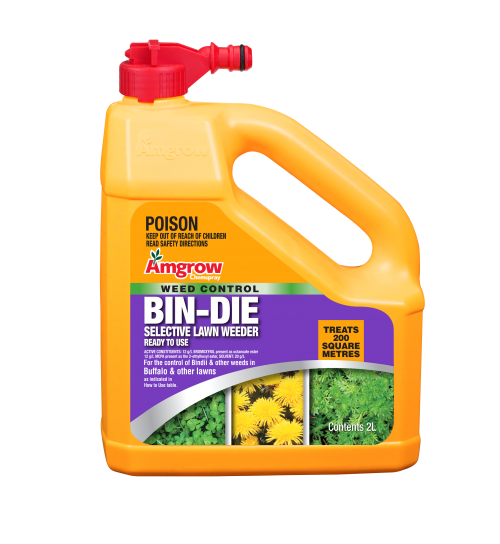oxalis: (162, 408, 223, 447)
